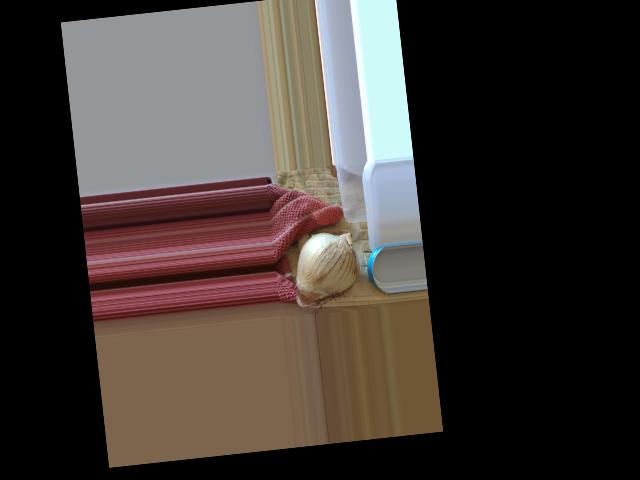onion: (289, 230, 363, 307)
